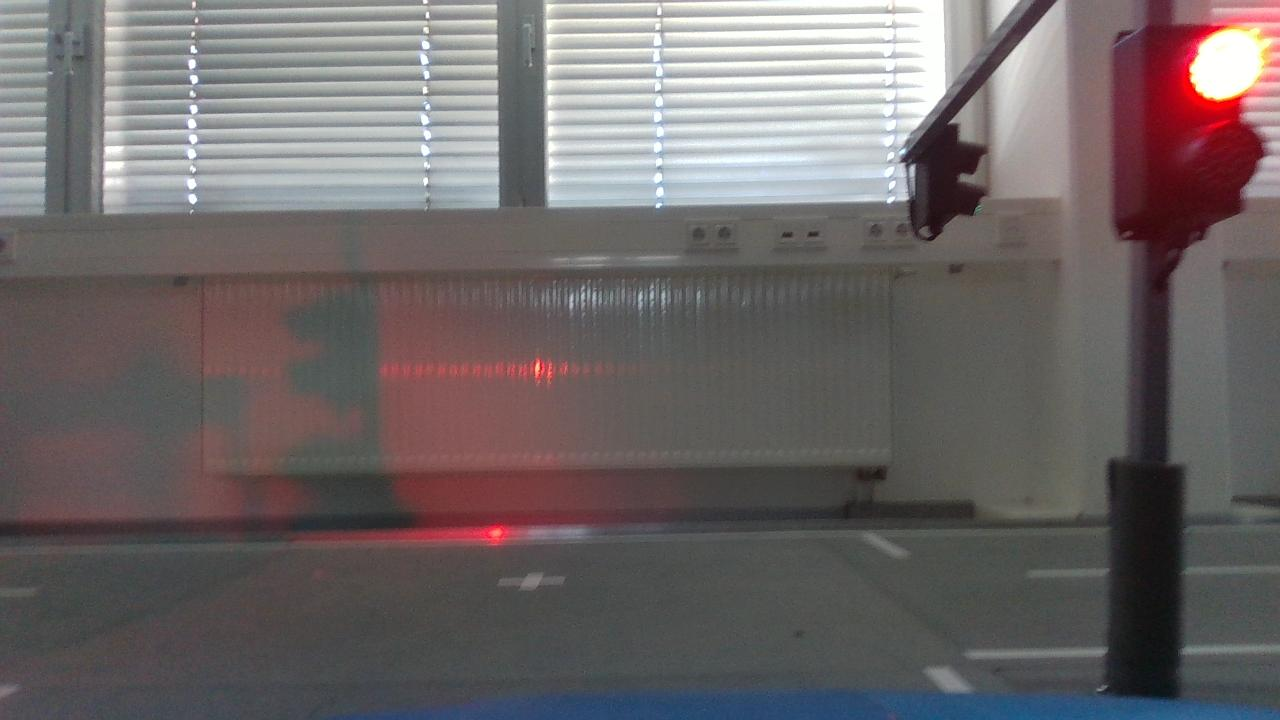traffic_light_red: (1094, 6, 1280, 255)
